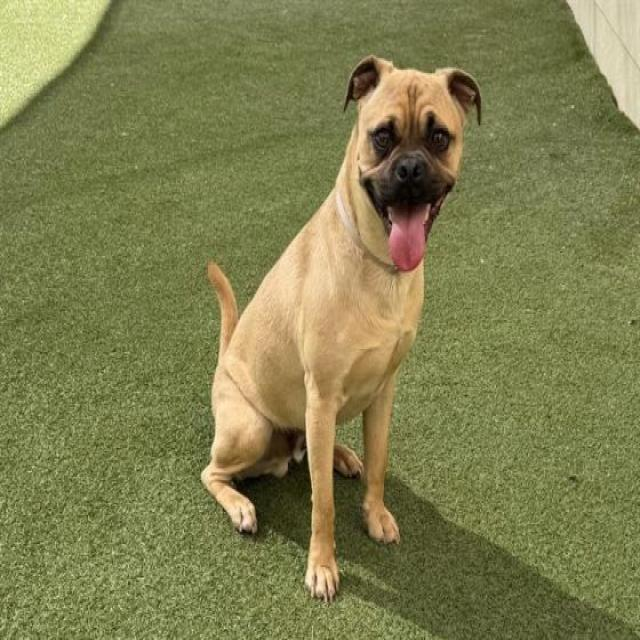pug_dog: (337, 50, 488, 279)
